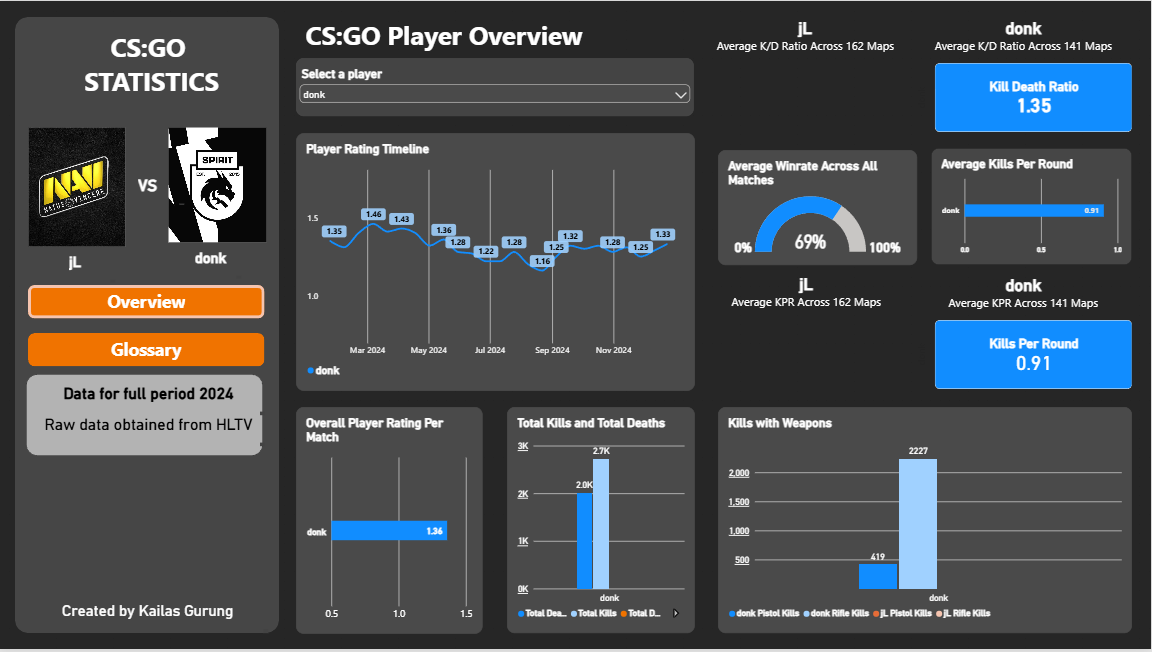

Layout of this report page (visuals, bound fields, positions):
{"tool":"powerbi","page":{"name":"Overview","canvas":[1920,1080],"ordinal":0},"visuals":[{"type":"shape","box":[26.7,26.7,440,1026.7],"z":0},{"type":"textbox","box":[53.3,46.7,401.7,145],"z":1000},{"type":"actionButton","box":[48.3,473.1,394.3,55.7],"z":2000},{"type":"actionButton","box":[48.3,553.3,394.3,55.7],"z":3000},{"type":"textbox","box":[495,26.7,492.9,62.9],"z":4000},{"type":"slicer","fields":{"Values":["Player Statistics.PLAYER_NAME"]},"box":[495.6,95.6,663.3,96.7],"z":5000},{"type":"clusteredBarChart","title":"Overall Player Rating Per Match","fields":{"Category":["Player Statistics.PLAYER_NAME"],"Y":["Avg(Player Statistics.RATING_2_1)"]},"box":[495,676.2,311.2,377.5],"z":6000},{"type":"lineChart","title":"Player Rating Timeline","fields":{"Category":["Sheet1.DATE"],"Series":["Sheet1.PLAYER_NAME"],"Y":["Sum(Sheet1.RATING)"]},"box":[495,220,665,430],"z":7000},{"type":"gauge","title":"Average Winrate Across All Matches ","fields":{"Y":["Avg(Player Statistics.WINRATE)"]},"box":[1198.3,248.3,331.7,191.7],"z":8000},{"type":"image","box":[48.3,210,163.3,200],"z":9000},{"type":"image","box":[281.7,210,165,193.3],"z":10000},{"type":"cardVisual","title":"jL","fields":{"Data":["Sum(Player Statistics.KILL_DEATH_RATIO)"],"Rows":["Player Statistics.PLAYER_NAME"]},"box":[1170,8.3,347.8,212.2],"z":11000},{"type":"cardVisual","title":"donk","fields":{"Data":["Sum(Player Statistics.KILL_DEATH_RATIO)"],"Rows":["Player Statistics.PLAYER_NAME"]},"box":[1526.7,8.3,361.2,210],"z":12000},{"type":"clusteredColumnChart","title":"Total Kills and Total Deaths","fields":{"Category":["Player Statistics.PLAYER_NAME"],"Y":["Player Rating Timeline.donk Total Deaths","Player Rating Timeline.donk Total Kills","Player Rating Timeline.jL Total Deaths","Player Rating Timeline.jL Total Kills"]},"box":[846.7,676.7,313.3,376.7],"z":13000},{"type":"clusteredBarChart","title":"Average Kills Per Round","fields":{"Category":["Player Statistics.PLAYER_NAME"],"Y":["Sum(Player Statistics.KILLS_PER_ROUND)"]},"box":[1553.3,245,335,195],"z":14000},{"type":"cardVisual","title":"jL","fields":{"Data":["Sum(Player Statistics.KILLS_PER_ROUND)"],"Rows":["Player Statistics.PLAYER_NAME"]},"box":[1171.7,435,347.8,212.2],"z":15000},{"type":"cardVisual","title":"donk","fields":{"Data":["Sum(Player Statistics.KILLS_PER_ROUND)"],"Rows":["Player Statistics.PLAYER_NAME"]},"box":[1526.7,436.7,361.2,210],"z":16000},{"type":"clusteredColumnChart","title":"Kills with Weapons","fields":{"Category":["Player Statistics.PLAYER_NAME"],"Y":["Player Rating Timeline.donk Pistol Kills","Player Rating Timeline.donk Rifle Kills","Player Rating Timeline.jL Pistol Kills","Player Rating Timeline.jL Rifle Kills"]},"box":[1198.3,676.7,690,376.7],"z":17000},{"type":"textbox","title":"VS","box":[231.7,291.7,76.7,48.3],"z":18000},{"type":"shape","box":[45,621.7,395,136.7],"z":19000},{"type":"textbox","title":"Data for full period 2024","box":[55,638.3,388.3,51.7],"z":20000},{"type":"textbox","title":"Raw data obtained from HLTV","box":[55,690,388.3,51.7],"z":21000},{"type":"textbox","title":"Created by Kailas Gurung","box":[46.7,1001.7,401.7,51.7],"z":22000},{"type":"textbox","title":"jL","box":[116.7,421.7,76.7,48.3],"z":23000},{"type":"textbox","title":"donk","box":[326.7,415,76.7,48.3],"z":24000}]}

Visuals, with their boxes in screenshot pixels (x1, y1, x2, y2), scaled from the page's 1920x1080 canvas onto the 1152x652 screenshot:
shape: rect(16, 16, 280, 636)
textbox: rect(32, 28, 273, 116)
actionButton: rect(29, 286, 266, 319)
actionButton: rect(29, 334, 266, 368)
textbox: rect(297, 16, 593, 54)
slicer - Player Statistics.PLAYER_NAME: rect(297, 58, 695, 116)
"Overall Player Rating Per Match" clusteredBarChart: rect(297, 408, 484, 636)
"Player Rating Timeline" lineChart: rect(297, 133, 696, 392)
"Average Winrate Across All Matches " gauge: rect(719, 150, 918, 266)
image: rect(29, 127, 127, 248)
image: rect(169, 127, 268, 243)
"jL" cardVisual: rect(702, 5, 911, 133)
"donk" cardVisual: rect(916, 5, 1133, 132)
"Total Kills and Total Deaths" clusteredColumnChart: rect(508, 409, 696, 636)
"Average Kills Per Round" clusteredBarChart: rect(932, 148, 1133, 266)
"jL" cardVisual: rect(703, 263, 912, 391)
"donk" cardVisual: rect(916, 264, 1133, 390)
"Kills with Weapons" clusteredColumnChart: rect(719, 409, 1133, 636)
"VS" textbox: rect(139, 176, 185, 205)
shape: rect(27, 375, 264, 458)
"Data for full period 2024" textbox: rect(33, 385, 266, 417)
"Raw data obtained from HLTV" textbox: rect(33, 417, 266, 448)
"Created by Kailas Gurung" textbox: rect(28, 605, 269, 636)
"jL" textbox: rect(70, 255, 116, 284)
"donk" textbox: rect(196, 251, 242, 280)
